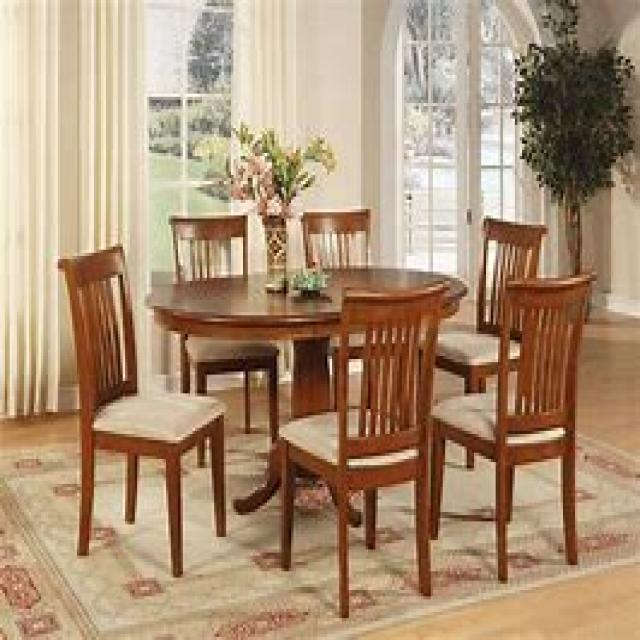chair: (276, 278, 448, 618), (55, 243, 226, 578), (428, 268, 597, 580), (431, 216, 546, 468), (166, 212, 279, 465)
table: (144, 263, 467, 522)
